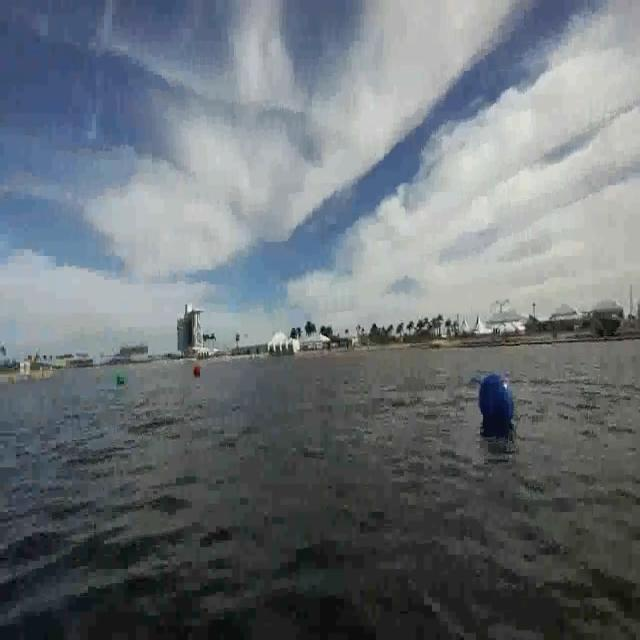blue-buoy: (479, 373, 514, 425)
green-buoy: (115, 370, 126, 388)
red-buoy: (192, 362, 200, 376)
